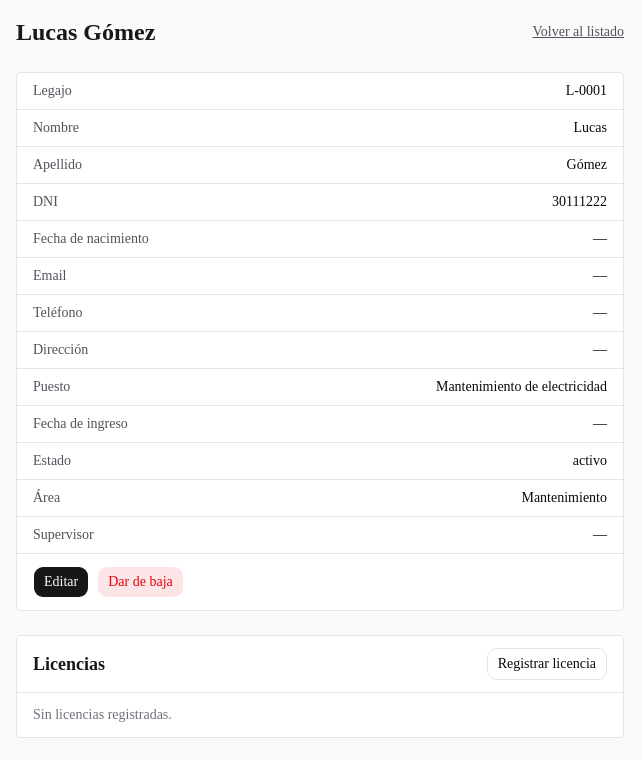
Scenario: FichaEmpleadoPage › muestra el error del backend si el guardado falla
The image size is (641, 760).
Expected: the heading "Lucas Gómez" is shown, [16,16,155,48]
Click the button "Editar" at (61, 582), box [33,566,89,598]
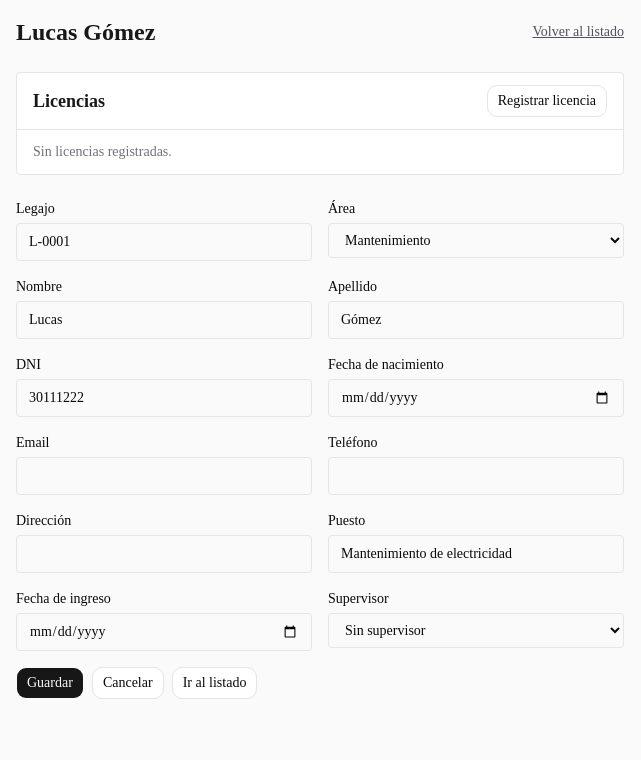
Replace the text in the field labelled "Legajo" with "L-0002" at (164, 242), box [16,223,312,261]
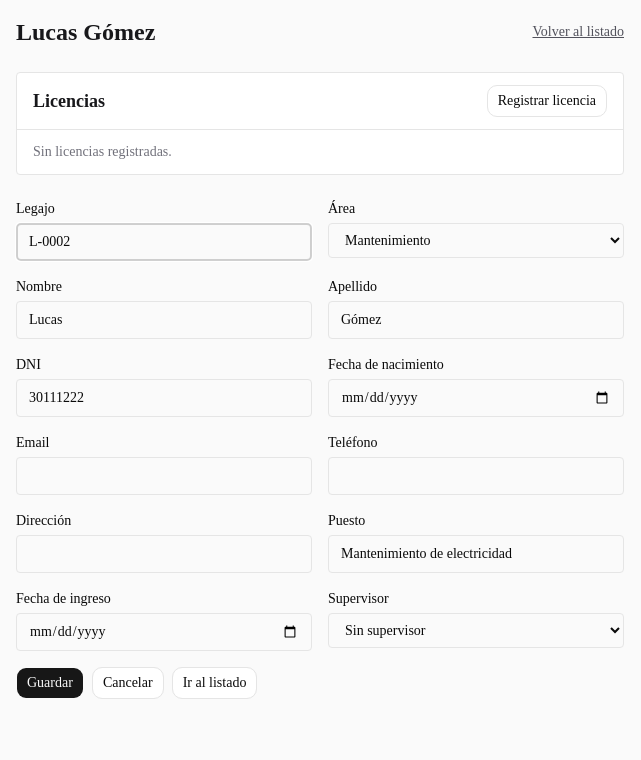
Click the button "Guardar" at (50, 683), box [16,667,84,699]
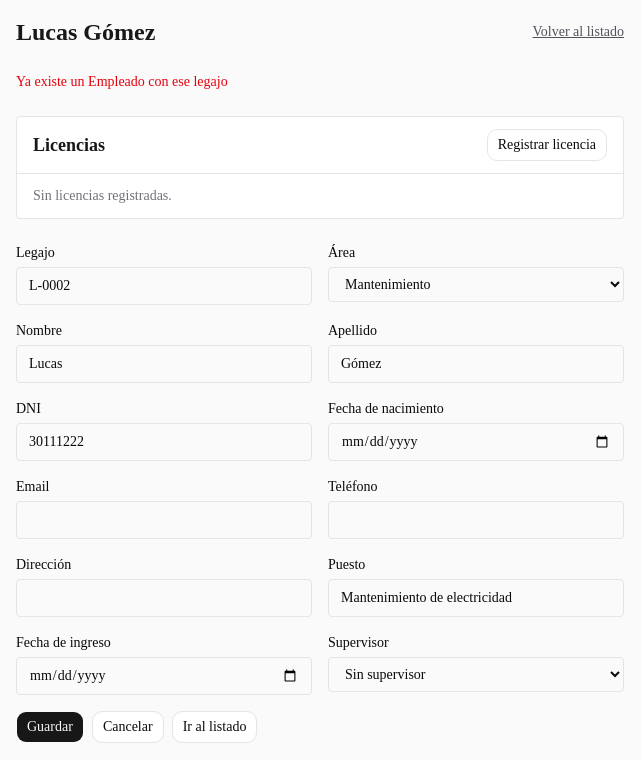
Expected: the button "Guardar" is shown, [16,711,84,743]
Expected: the message shows "legajo", [16,74,228,89]
